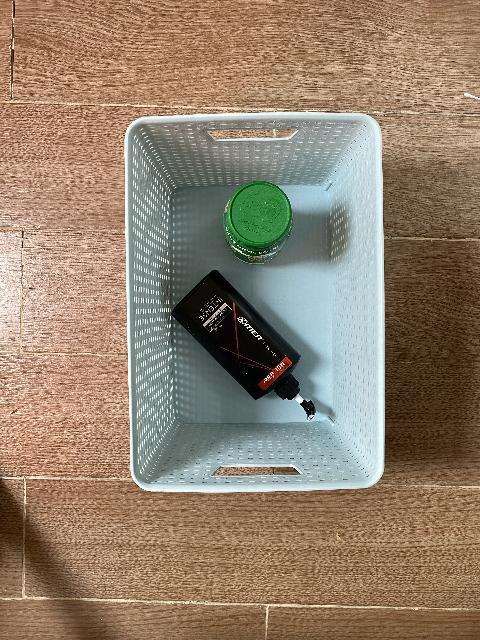X-men: (171, 270, 316, 421)
cart: (124, 112, 386, 493)
milo: (223, 181, 293, 265)
